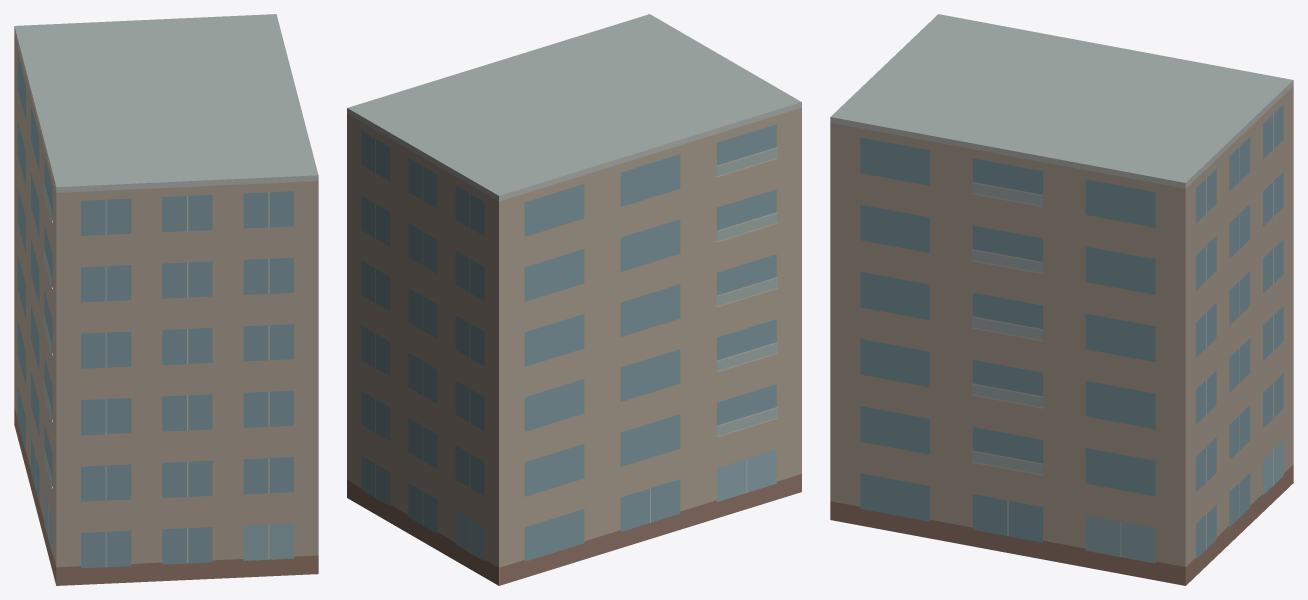
File: survey-upis-33017141.glb
3 views of the same model, side by side, from view 1: azimuth 30°, elevation 25°; view 2: azimuth 150°, elevation 25°; view 3: azimuth 270°, elevation 25° (orthographic). The views are drawn at different scales.
Visible parts, largest first — view 1: survey-upis-33017141.tmp; view 2: survey-upis-33017141.tmp; view 3: survey-upis-33017141.tmp.
Part boxes in pixels (x1,y1,x2,y2): survey-upis-33017141.tmp: [14, 14, 318, 585]; survey-upis-33017141.tmp: [347, 14, 801, 585]; survey-upis-33017141.tmp: [830, 14, 1293, 585].
Size of the model in its own units: 15.29 by 17 by 17.72.
